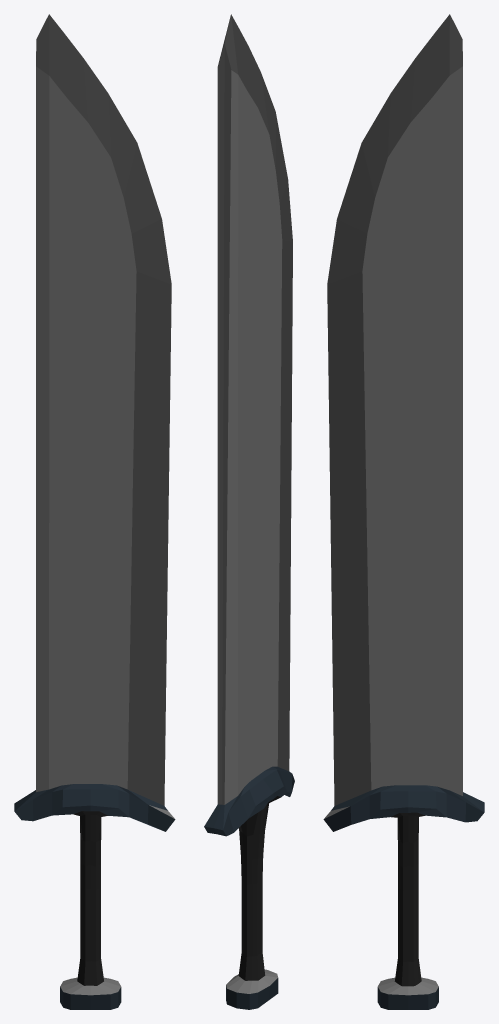
File: BroadSword.fbx
3 views of the same model, side by side, from view 1: azimuth 90°, elevation 25°; view 2: azimuth 150°, elevation 25°; view 3: azimuth 270°, elevation 25° (orthographic).
Parts seen in each view (by area): view 1: Cube; view 2: Cube; view 3: Cube.
Boxes of the visible parts, x1,y1,x2,y2 form: Cube: (14, 14, 175, 1009); Cube: (204, 14, 294, 1009); Cube: (323, 14, 484, 1009).
Bounding box in the file's own units: 23.78 × 522 × 77.14.
